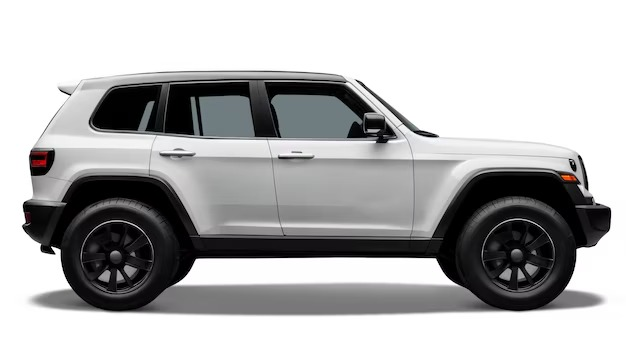car: (1, 60, 614, 314)
